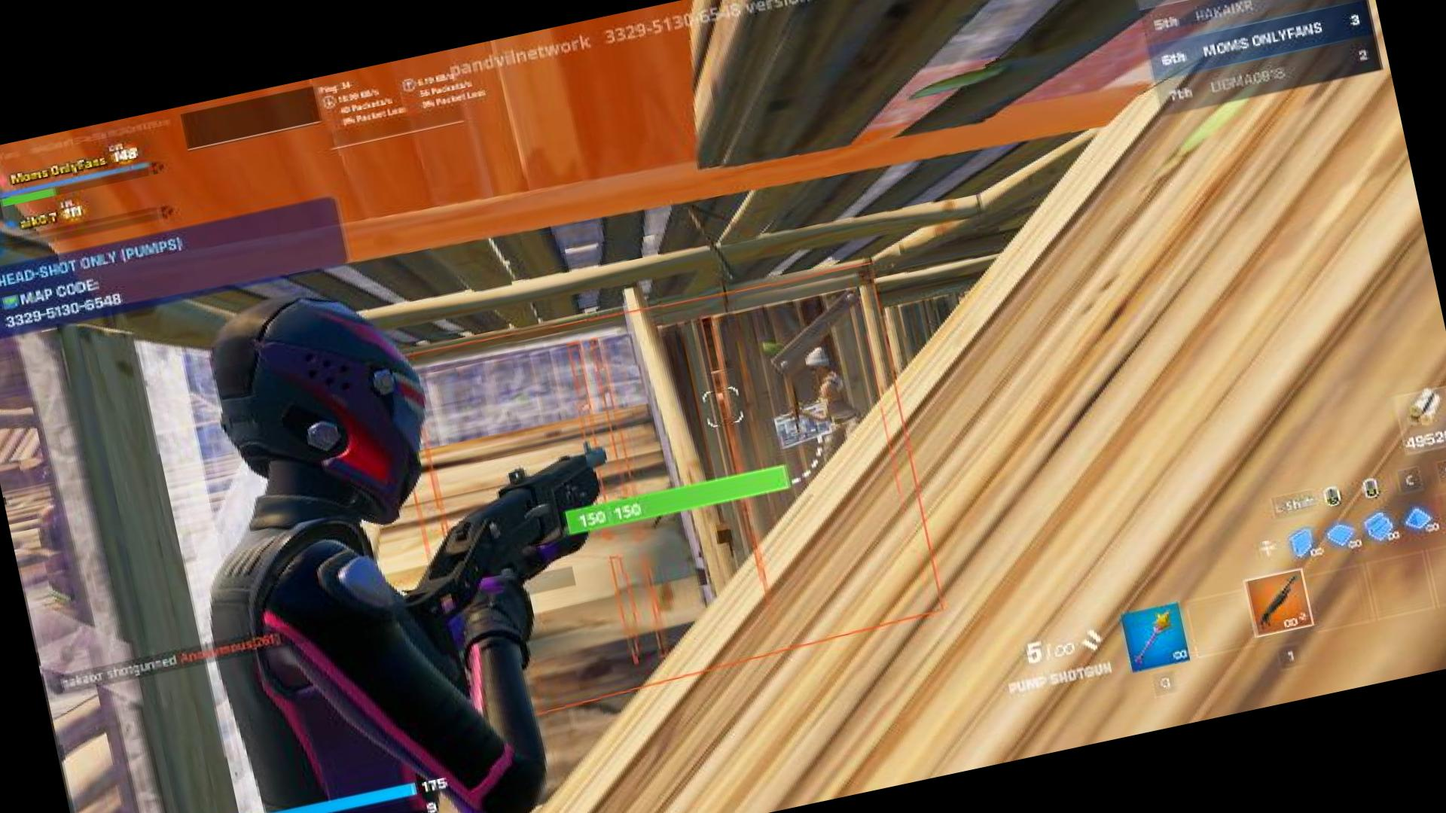player: (766, 334, 885, 488)
